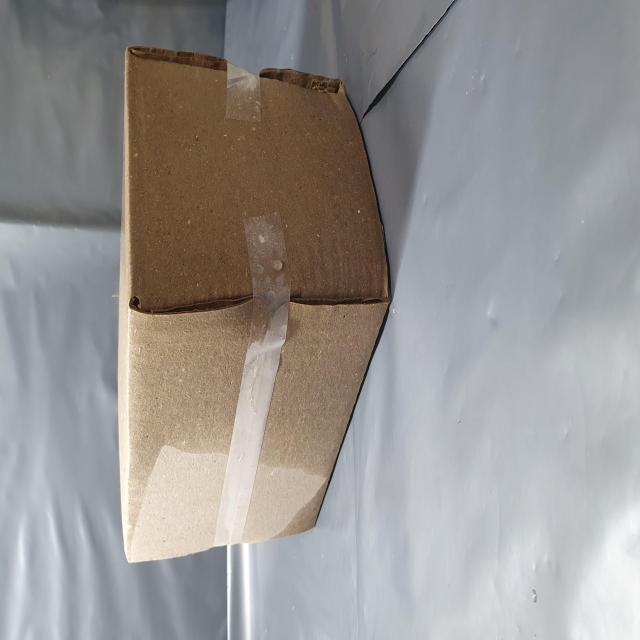wet: (50, 216, 323, 640)
